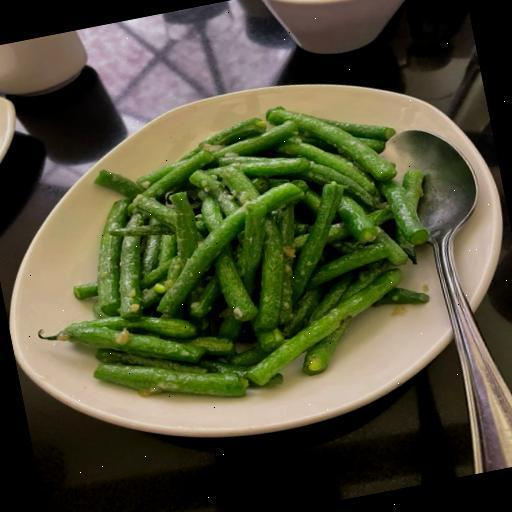buncis_rebus: (0, 72, 449, 429)
